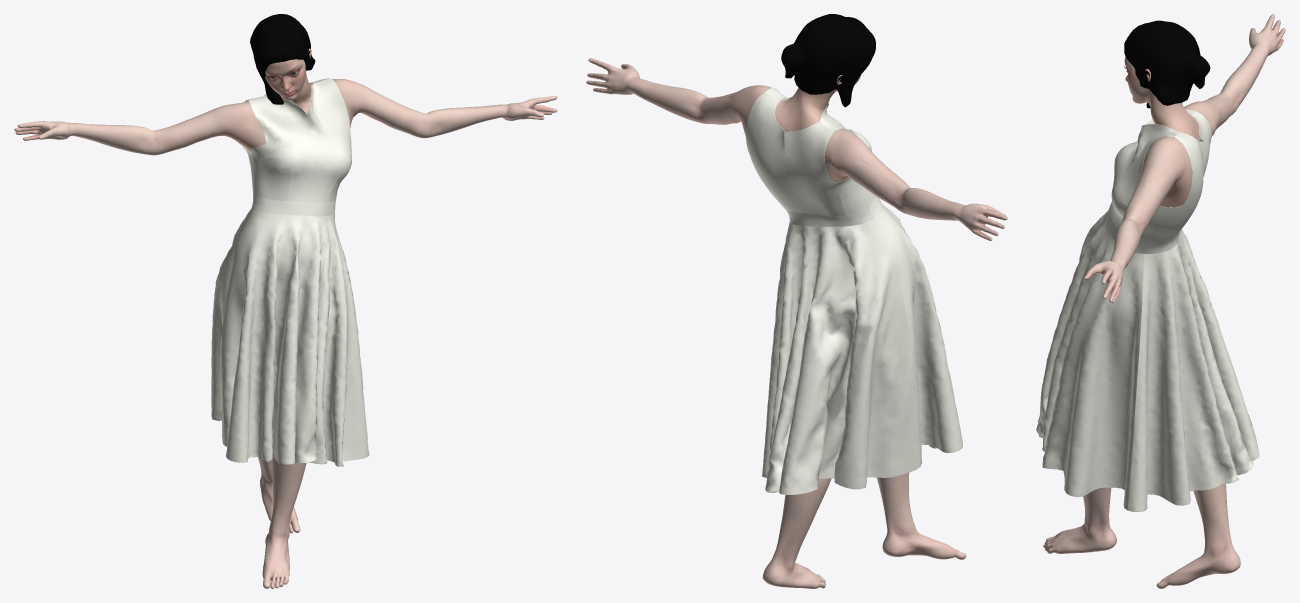
File: Custom_View_9__Dynamic_2.obj
3 renders of one model, left to right at view 1: azimuth 30°, elevation 25°; view 2: azimuth 150°, elevation 25°; view 3: azimuth 270°, elevation 25°, orthographic. The views are drawn at different scales.
Bounding box in the file's own units: 1601 × 1717 × 699.
